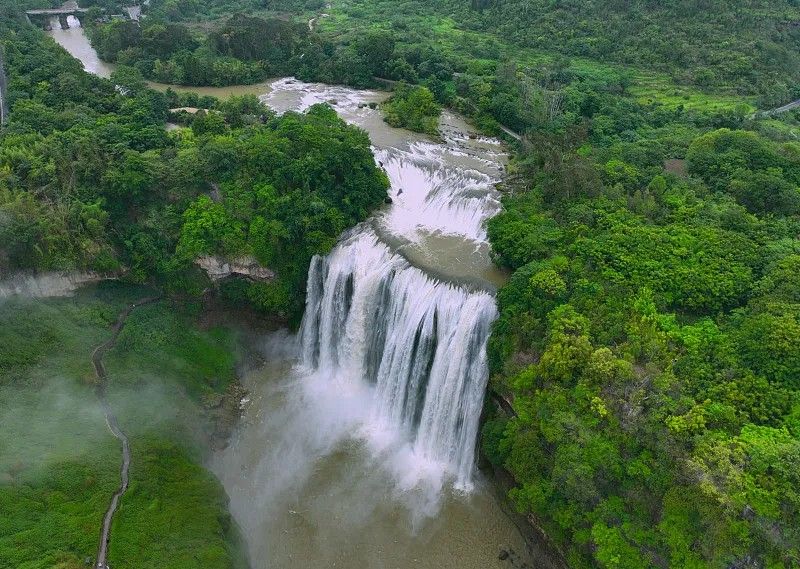Huangguoshu: (293, 160, 500, 494)
